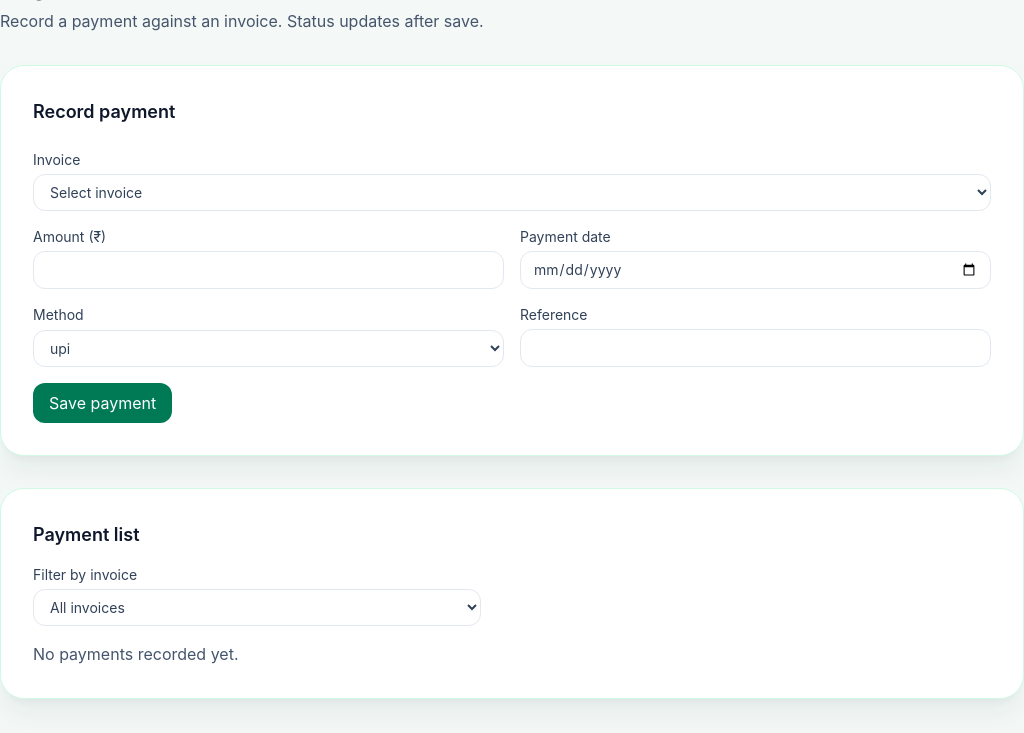
Test case: PaymentsPage › records a payment and shows the updated invoice status
Expected: the text "No payments recorded yet." is shown, x1=33 y1=644 x2=238 y2=664
Step 1. Select "INV-202607-0001 · ₹1035.13 · unpaid" in the dropdown labelled "Invoice" → (512, 192), box x1=33 y1=174 x2=991 y2=211
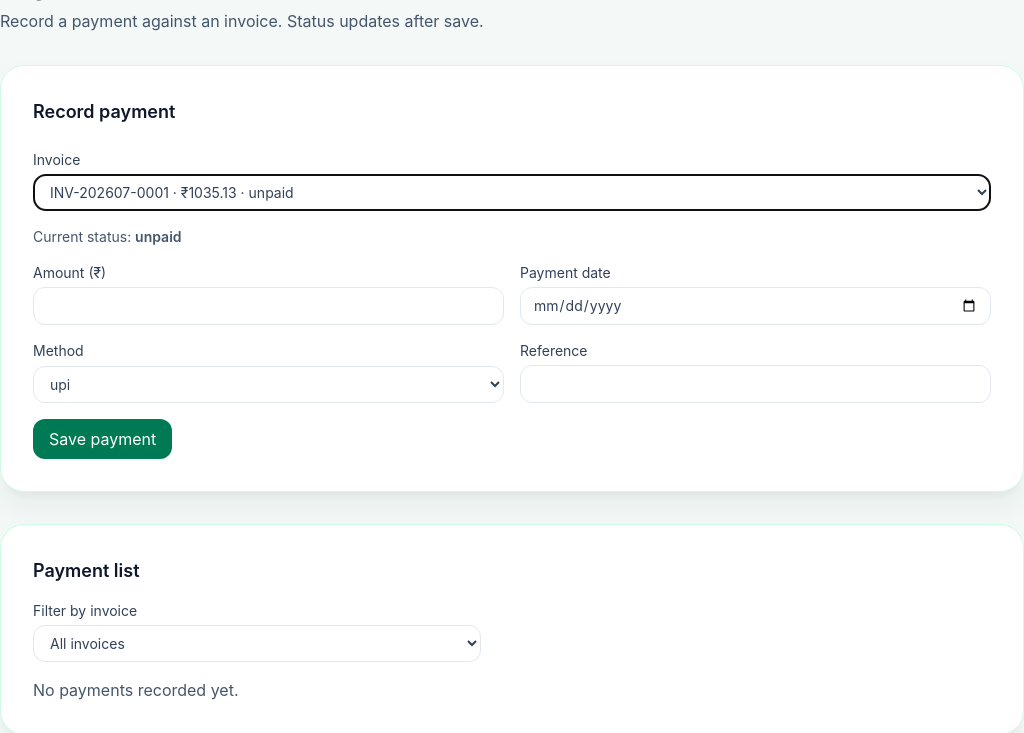
Step 2. Type "1035.13" into the number field labelled "Amount (₹)" → (268, 306), box x1=33 y1=287 x2=504 y2=325
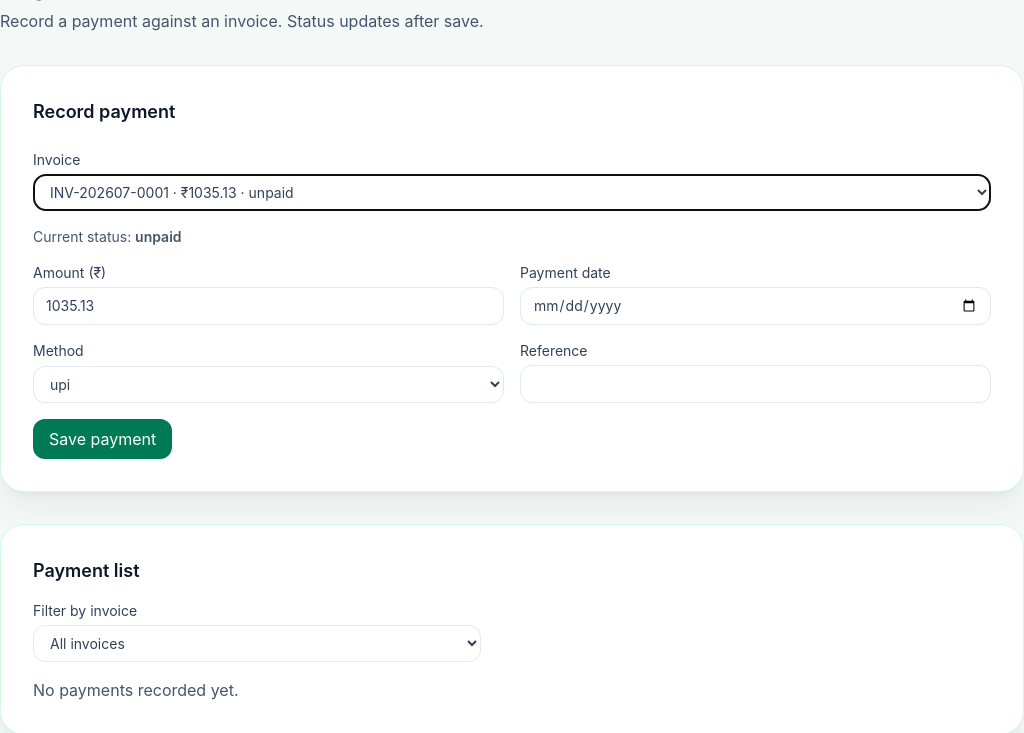
Step 3. Type "2026-08-02" into the date field labelled "Payment date" → (756, 306), box x1=520 y1=287 x2=991 y2=325
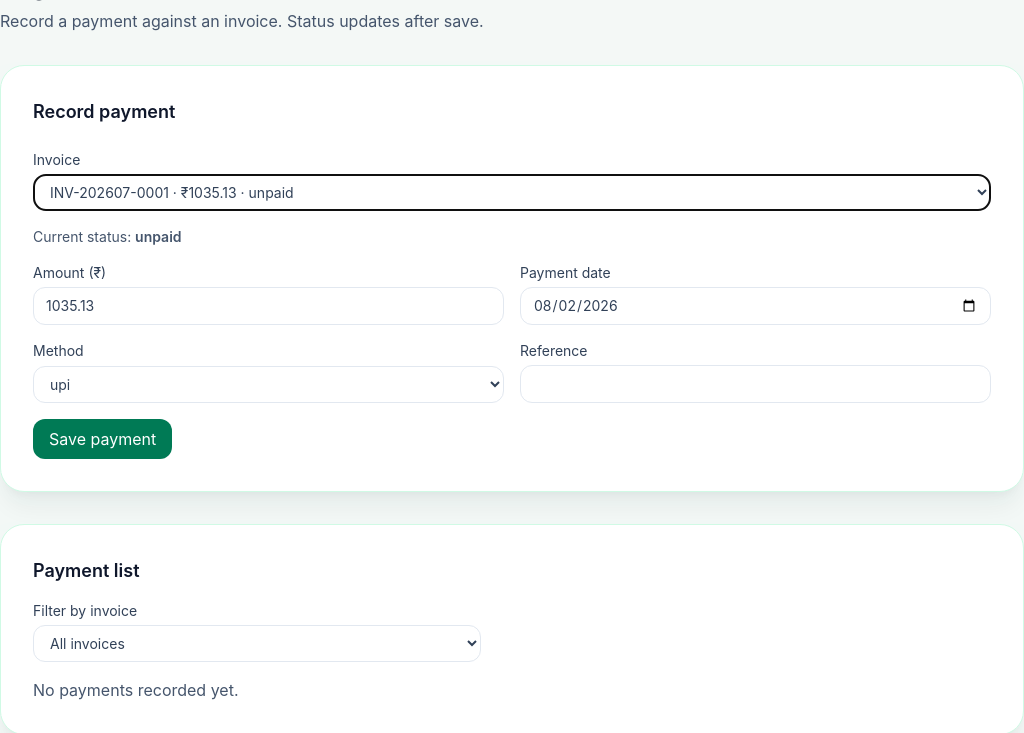
Step 4. Click the button "Save payment" → (103, 439), box x1=33 y1=419 x2=172 y2=459
(page scrolled)
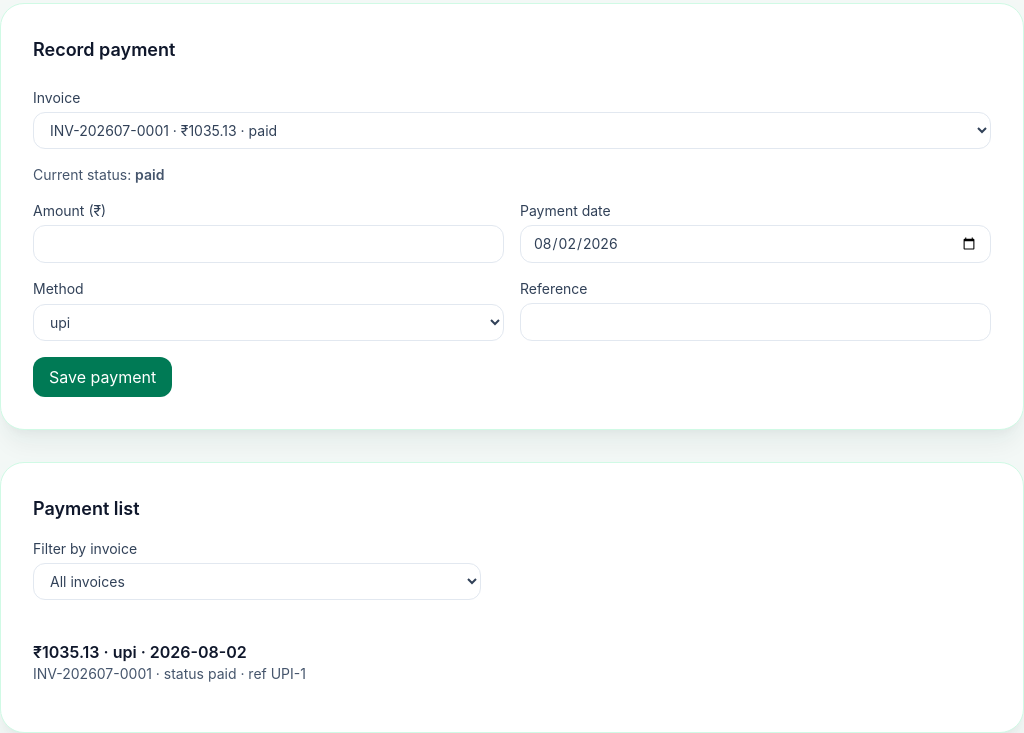
Expected: the text "INV-202607-0001 · status paid · ref UPI-1" is shown, x1=33 y1=665 x2=306 y2=682
